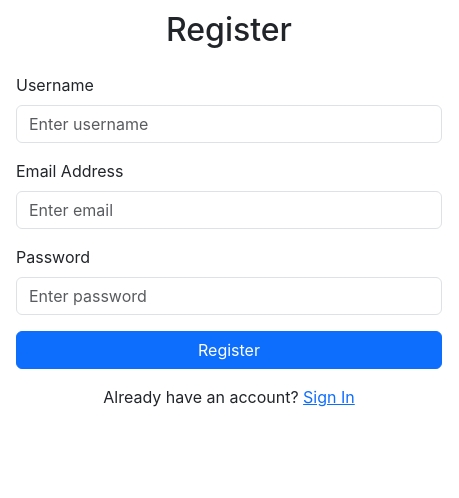
RegisterScreen (real store) › shows error alert on API failure
The width and height of the screenshot is (459, 498).
Type "user2" into the field labelled "Username" at [229, 124], box x1=16 y1=105 x2=442 y2=143
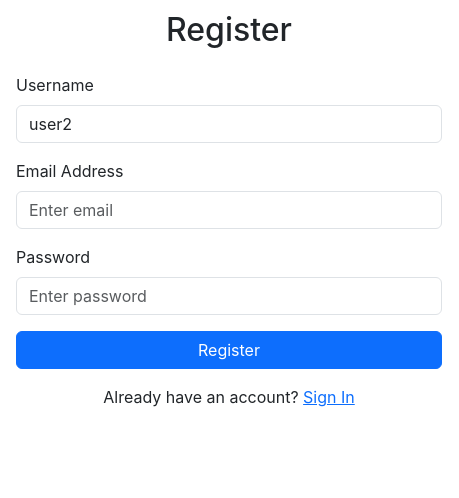
Type "user2@example.com" into the field labelled "Email Address" at [229, 210], box x1=16 y1=191 x2=442 y2=229
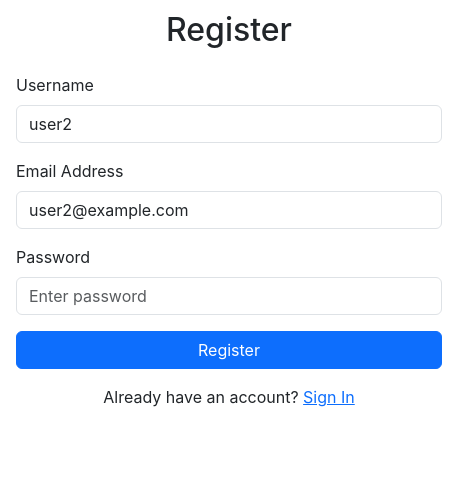
Type "password123" into the password field labelled "Password" at [229, 296], box x1=16 y1=277 x2=442 y2=315
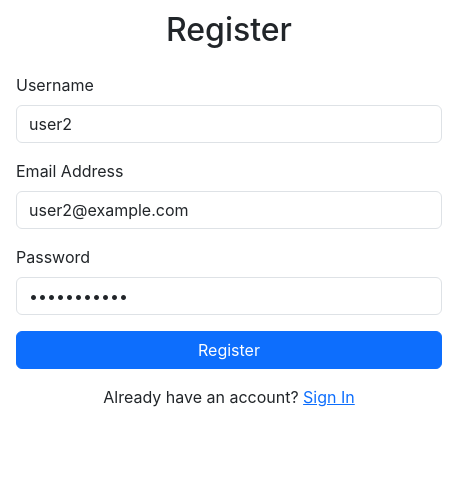
Click the button "Register" at [229, 350], box x1=16 y1=331 x2=442 y2=369
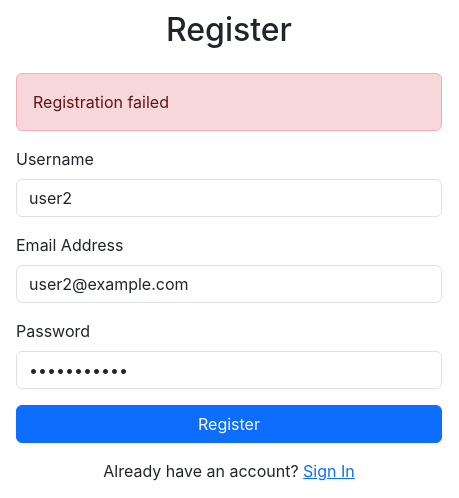
Expected: the text "Registration failed" is shown, x1=16 y1=73 x2=442 y2=131
